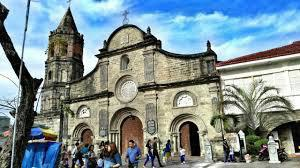barasoain_church_malolos_bulacan: (38, 1, 223, 158)
